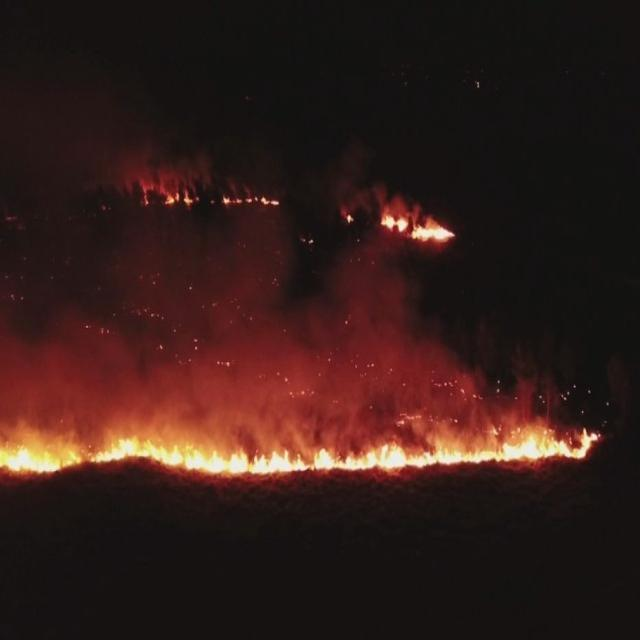Fire: (0, 402, 601, 476), (378, 193, 456, 244), (140, 174, 202, 207), (222, 192, 284, 206), (340, 208, 356, 224)
Smoke: (0, 344, 581, 431), (113, 204, 290, 340), (338, 156, 412, 344), (288, 294, 338, 346)
